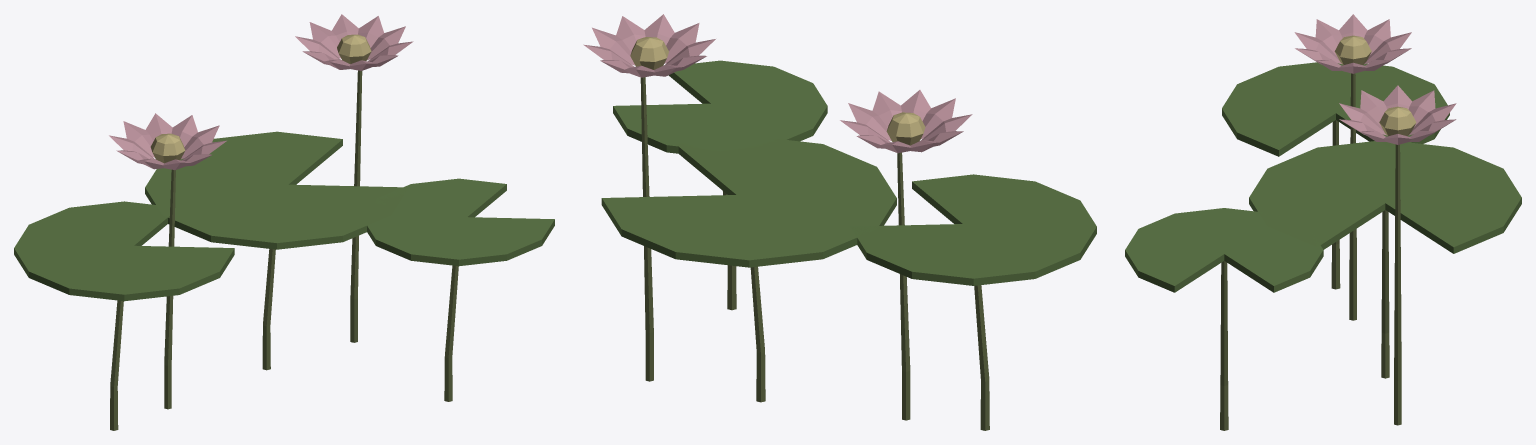
The model's file is Plant_Feature_Lakeside_LotusPatch_001.glb.
3 renders of one model, left to right at view 1: azimuth 30°, elevation 25°; view 2: azimuth 150°, elevation 25°; view 3: azimuth 270°, elevation 25°, orthographic. The views are drawn at different scales.
Parts seen in each view (by area): view 1: Plant_Feature_Lakeside_LotusPatch_001; view 2: Plant_Feature_Lakeside_LotusPatch_001; view 3: Plant_Feature_Lakeside_LotusPatch_001.
Part boxes in pixels (bbox=[...]): Plant_Feature_Lakeside_LotusPatch_001: bbox=[14, 14, 554, 430]; Plant_Feature_Lakeside_LotusPatch_001: bbox=[583, 14, 1096, 430]; Plant_Feature_Lakeside_LotusPatch_001: bbox=[1125, 14, 1521, 430].
Bounding box in the file's own units: 2.16 × 1.4 × 1.6.
